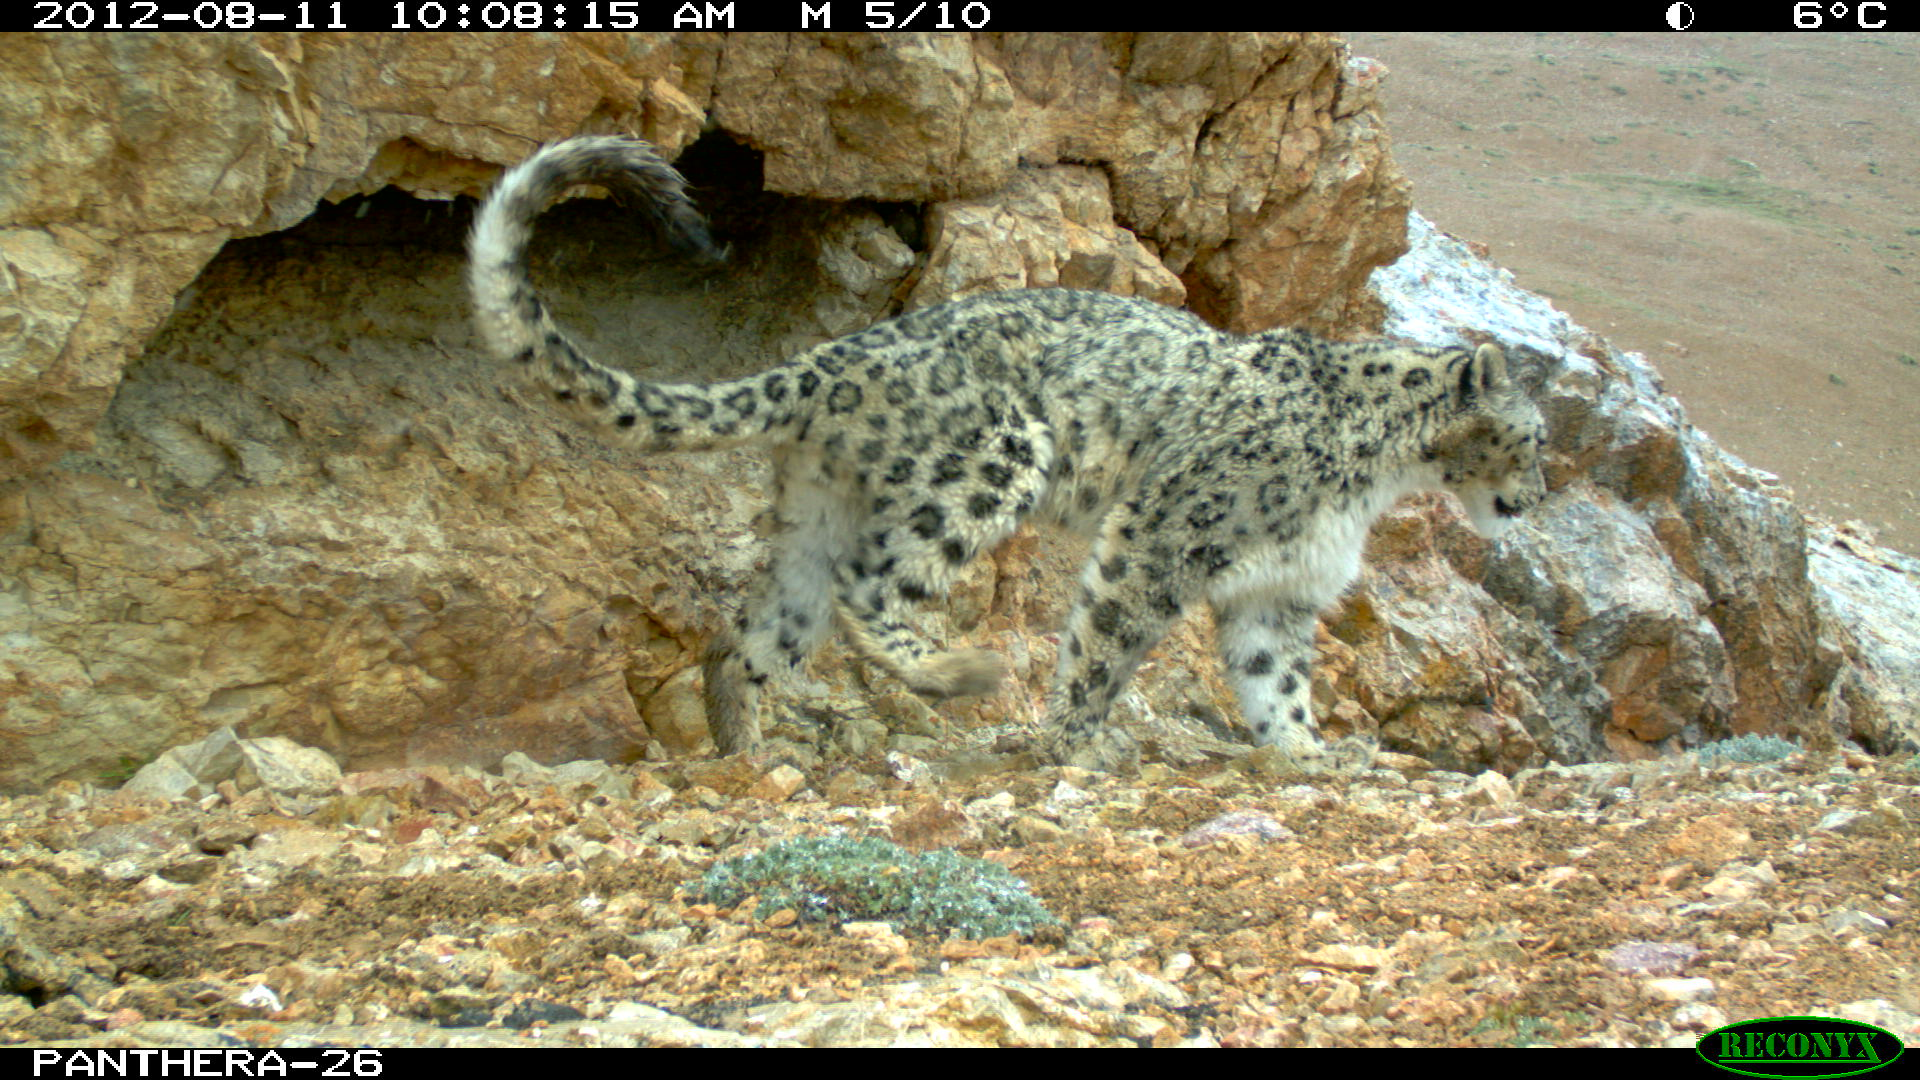Leopard: (450, 119, 1575, 796)
